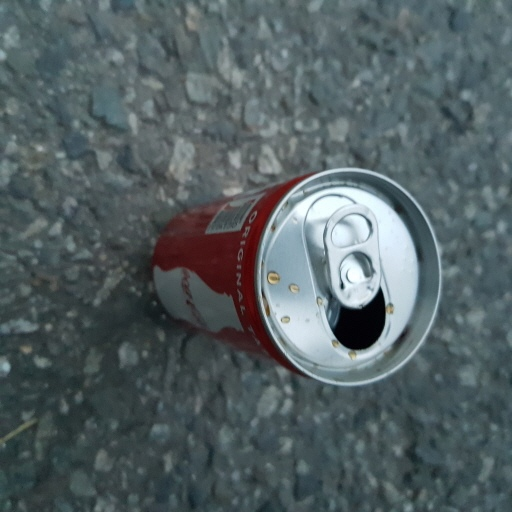Metal_0: (149, 163, 444, 387)
